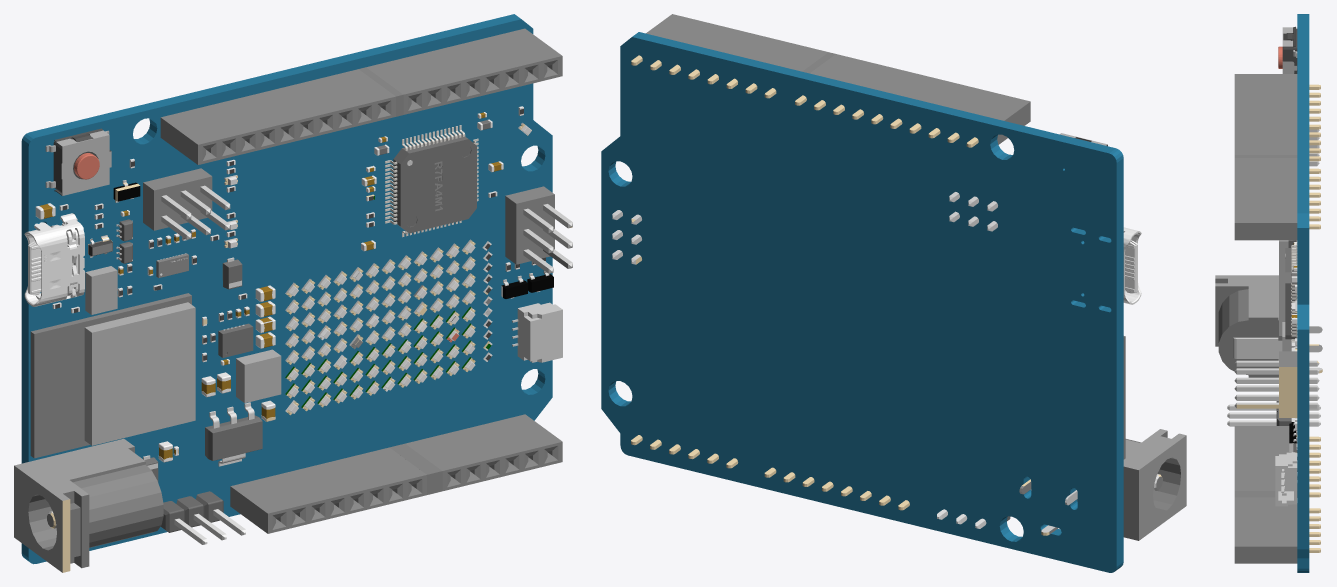
The model's file is arduino_uno_r4_wifi_1.glb.
The picture shows the model from 3 angles, left to right: view 1: azimuth 30°, elevation 25°; view 2: azimuth 150°, elevation 25°; view 3: azimuth 270°, elevation 25°; orthographic projection. The views are drawn at different scales.
Parts seen in each view (by area): view 1: default_2, default_11, default_15, default_6, default_9, default_33, default_8, default_25, default_14, default_31, default_22, default_18 (+13 smaller); view 2: default_2, default_11, default_14, default_30, default_8, default_33, default_22; view 3: default_11, default_2, default_30, default_8, default_22, default_14, default_19, default_18, default_27, default_15, default_6, default_9 (+4 smaller).
Boxes of the visible parts, box(x1,y1,x2,y2) form: default_2: box(21, 14, 552, 564); default_11: box(47, 28, 567, 533); default_15: box(84, 266, 281, 445); default_6: box(119, 134, 487, 482); default_9: box(30, 67, 442, 494); default_33: box(24, 106, 535, 462); default_8: box(28, 447, 163, 568); default_25: box(94, 125, 531, 413); default_14: box(14, 438, 145, 572); default_31: box(102, 123, 531, 421); default_22: box(161, 185, 572, 346); default_18: box(407, 160, 562, 362); default_2: box(601, 32, 1123, 572); default_11: box(646, 14, 1162, 534); default_14: box(1123, 429, 1186, 540); default_30: box(631, 55, 1161, 535); default_8: box(1077, 431, 1180, 540); default_33: box(1123, 227, 1141, 304); default_22: box(612, 192, 997, 264); default_11: box(1234, 74, 1322, 563); default_2: box(1297, 14, 1309, 572); default_30: box(1236, 84, 1322, 552); default_8: box(1215, 278, 1282, 377); default_22: box(1234, 129, 1319, 408); default_14: box(1215, 275, 1278, 320); default_19: box(1233, 326, 1322, 370); default_18: box(1275, 254, 1297, 506); default_27: box(1227, 404, 1320, 426); default_15: box(1279, 240, 1291, 351); default_6: box(1285, 240, 1297, 339); default_9: box(1234, 155, 1297, 497).
Size of the model in its own units: 0.0705 by 0.0533 by 0.0145.
